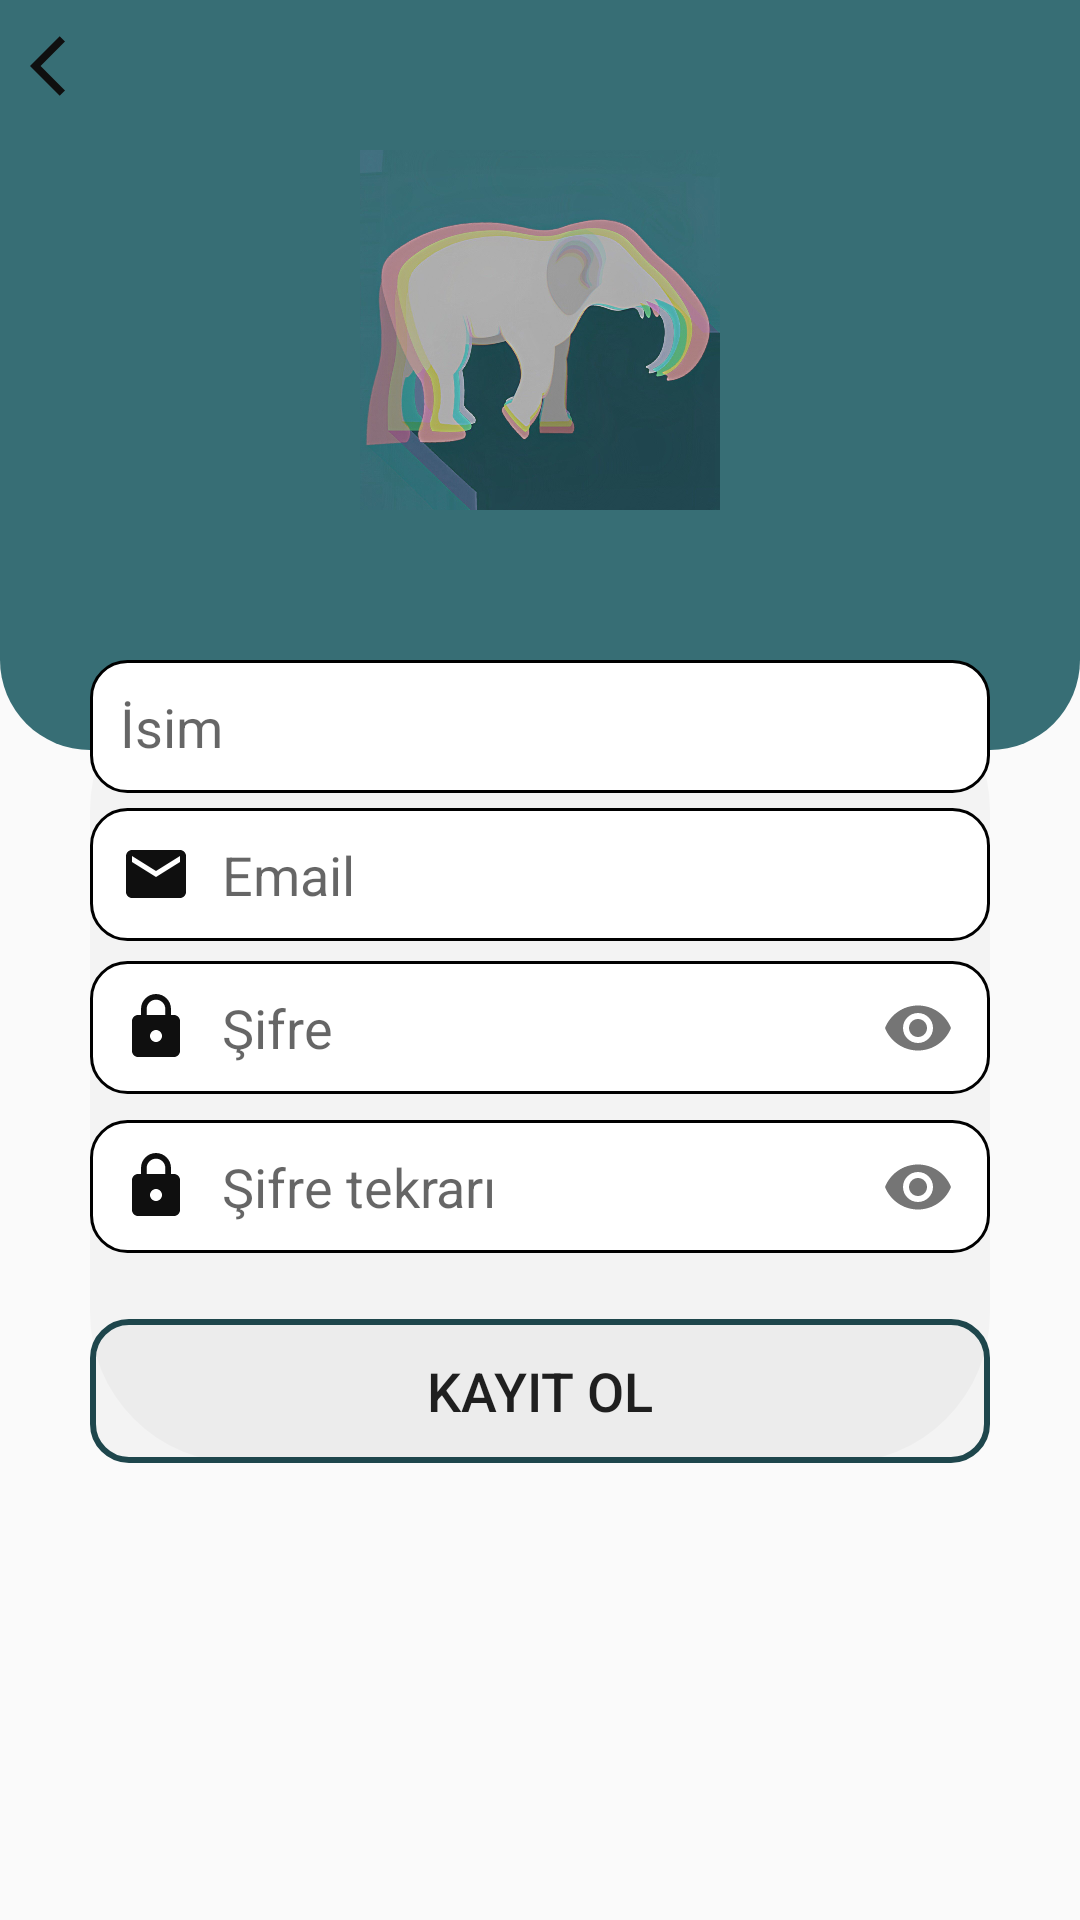

Icons on this 1080*1920 Android screen, each with the point to tap as [x,y]:
back: [47,66]
